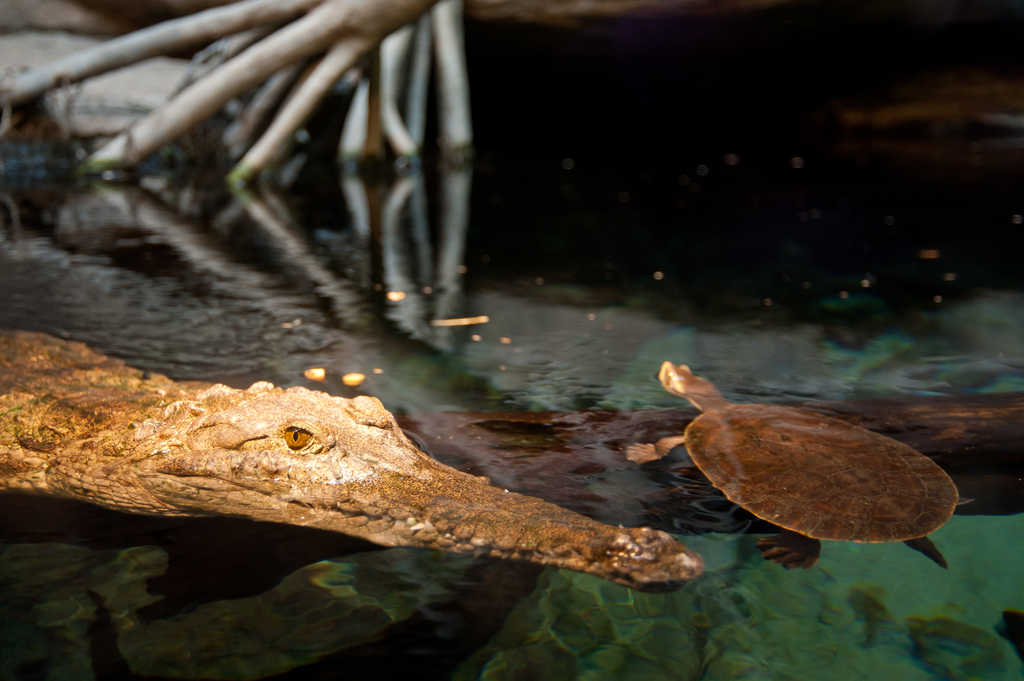Sea turtles: (624, 353, 976, 581)
